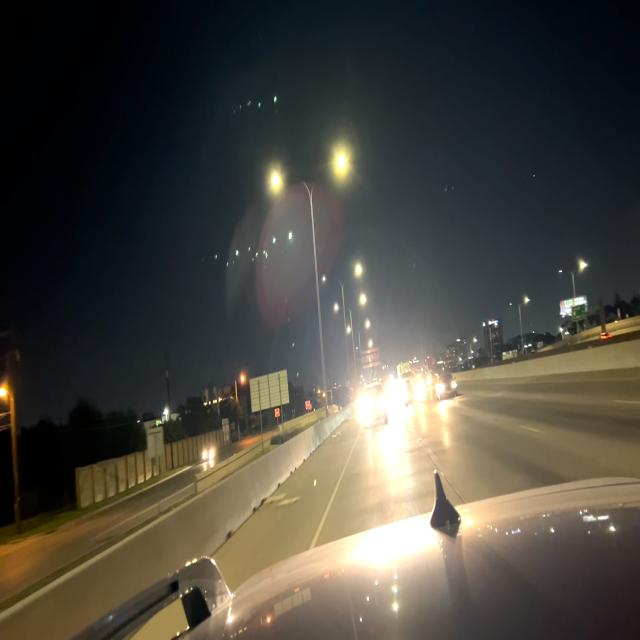back-of-sign: (249, 367, 290, 416), (144, 426, 166, 463), (359, 346, 382, 373)
